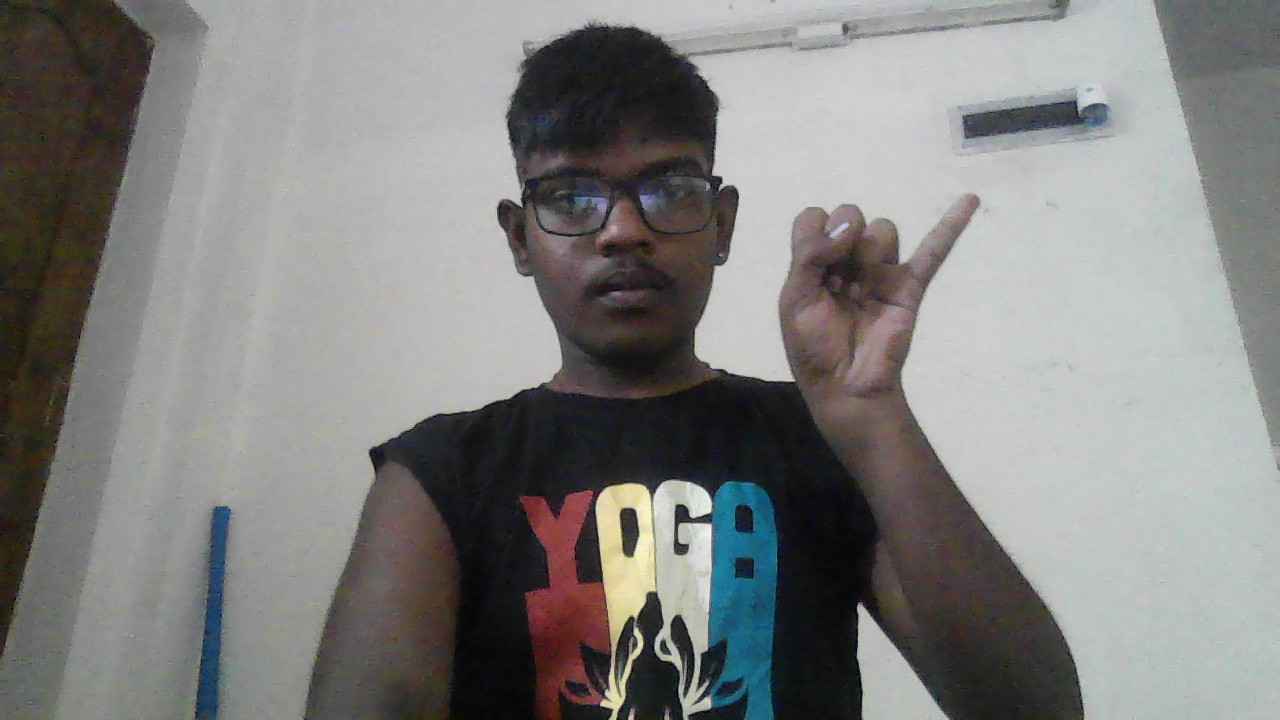J: (778, 192, 978, 387)
